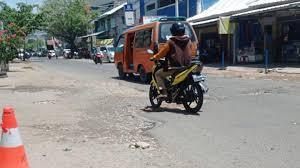Pothole: (103, 79, 174, 160), (15, 86, 62, 109), (243, 83, 299, 100)
